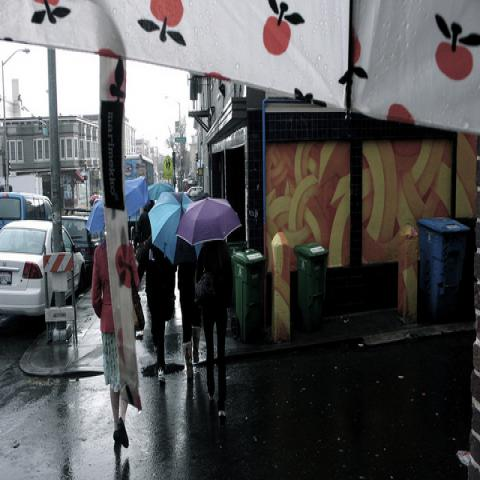car: (0, 217, 92, 314), (60, 207, 106, 286), (0, 192, 53, 226)
truck: (0, 173, 43, 196), (125, 154, 154, 186)
